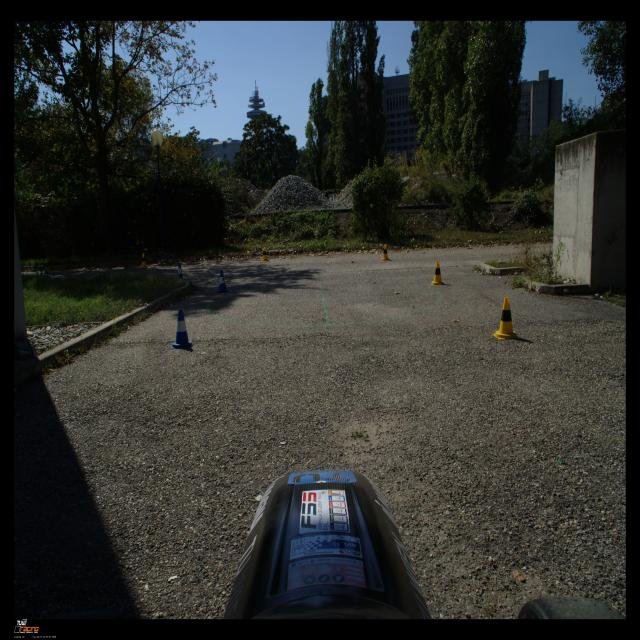blue_cone: (170, 308, 194, 348), (216, 270, 230, 293), (177, 263, 184, 280)
yellow_cone: (493, 297, 519, 339), (430, 261, 446, 285), (380, 244, 391, 261), (261, 247, 269, 261), (140, 254, 148, 267)
